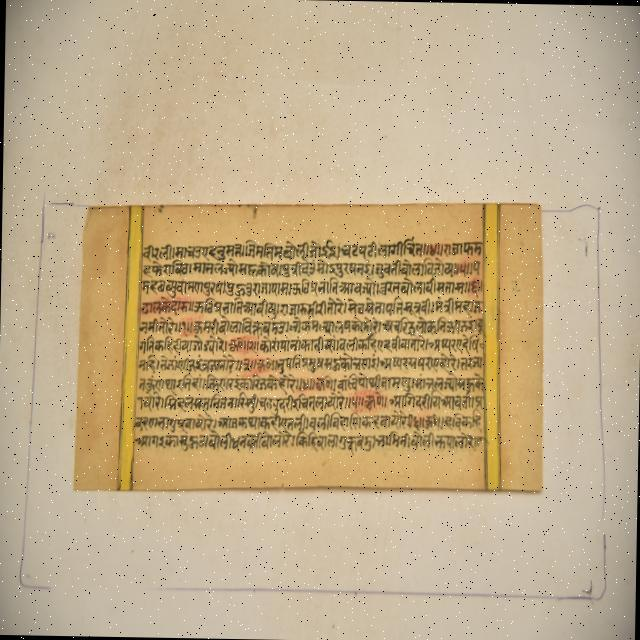text_paragraph: (76, 205, 541, 492)
